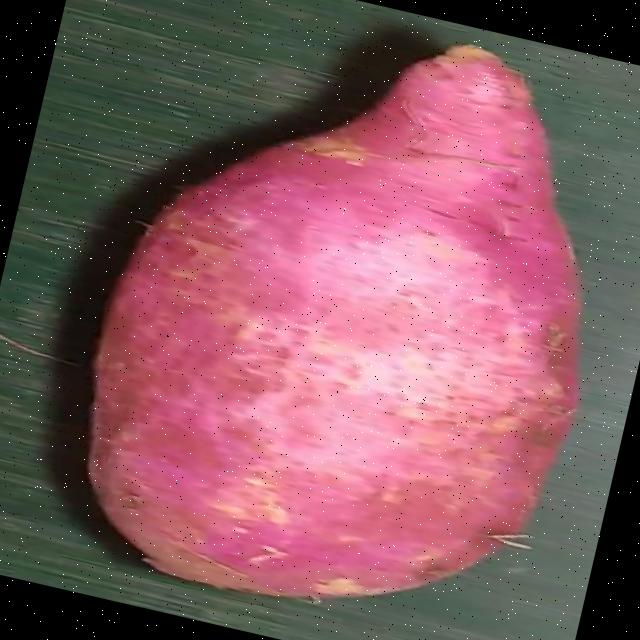Sweet Potato: (82, 45, 581, 603)
